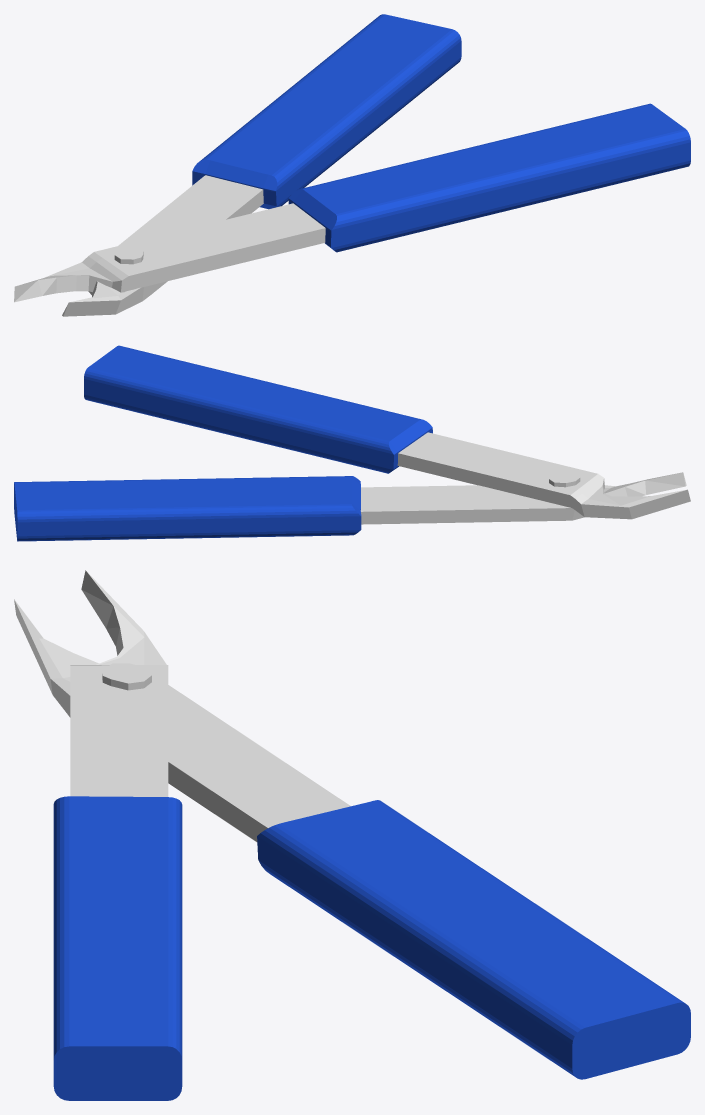
The model's file is kusachki.fbx.
The picture shows the model from 3 angles, top to bottom: view 1: azimuth 30°, elevation 25°; view 2: azimuth 150°, elevation 25°; view 3: azimuth 270°, elevation 25°; orthographic projection. The views are drawn at different scales.
Visible parts, largest first — view 1: Cube.009, Cube.010; view 2: Cube.009, Cube.010; view 3: Cube.010, Cube.009.
Boxes of the visible parts, x1=… form: Cube.009: x1=14, y1=103, x2=690, y2=302; Cube.010: x1=62, y1=14, x2=461, y2=316; Cube.009: x1=84, y1=345, x2=690, y2=519; Cube.010: x1=14, y1=472, x2=686, y2=541; Cube.010: x1=14, y1=599, x2=690, y2=1079; Cube.009: x1=53, y1=570, x2=182, y2=1100.
Size of the model in its own units: 58.07 by 4.24 by 34.83.
